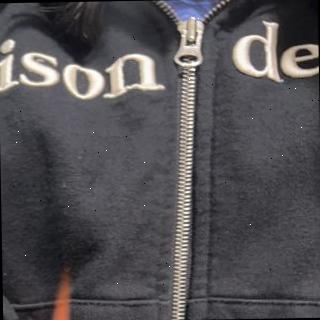fire: (38, 271, 75, 320)
